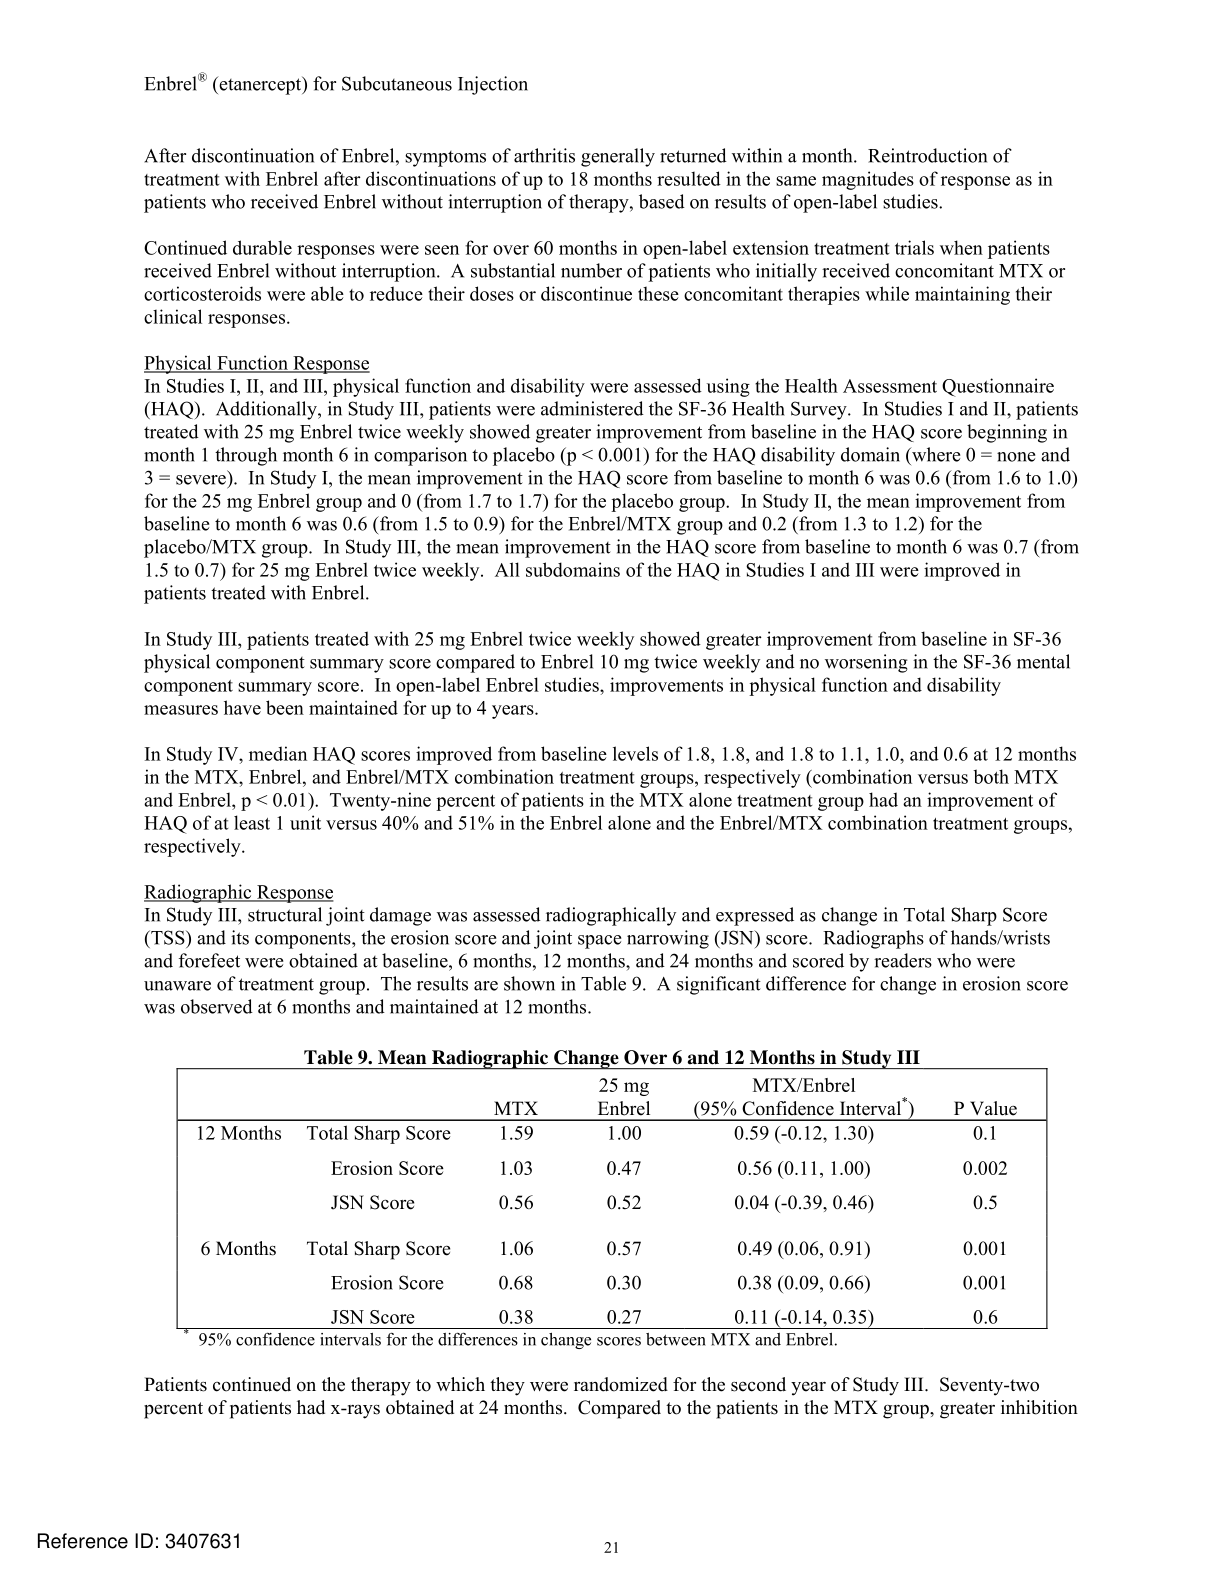partial_lined: (174, 1065, 1050, 1331)
